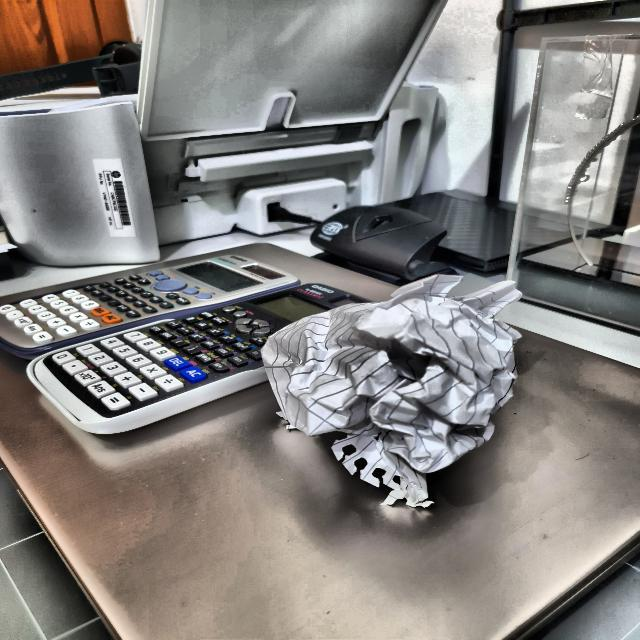Paper: (261, 267, 528, 508)
